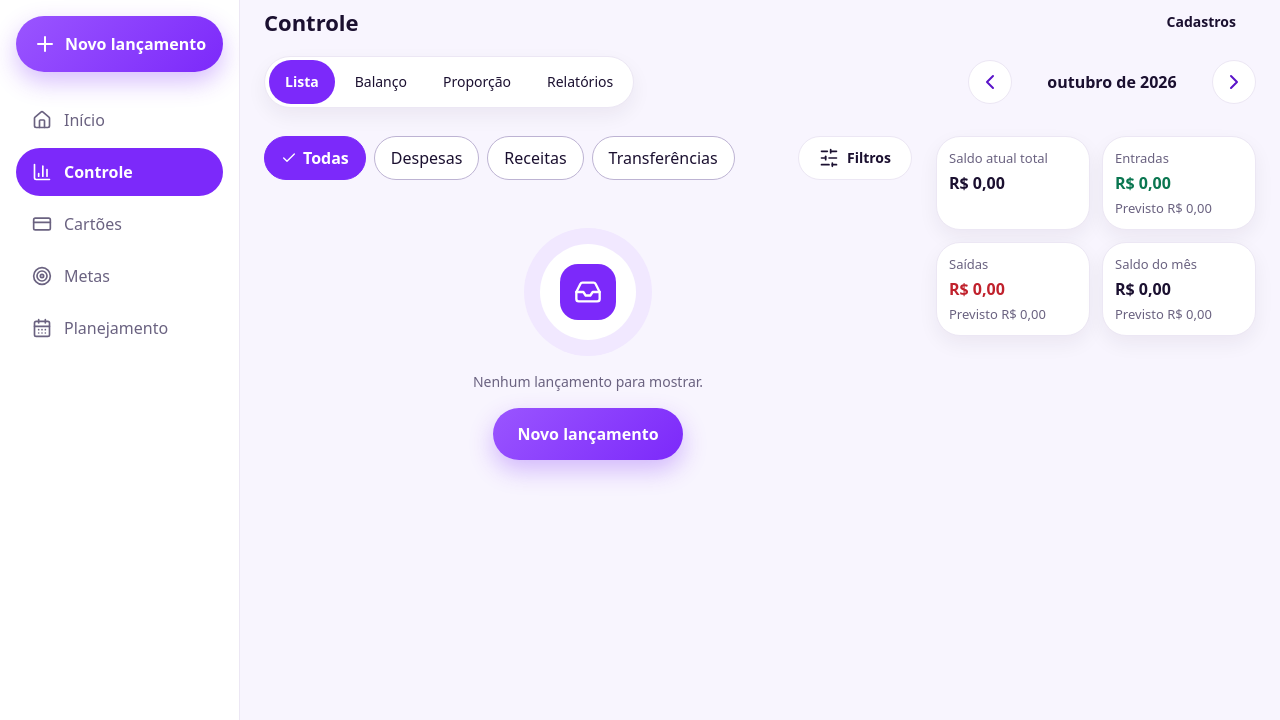
it: menu "+" (CA-0.02) › a opção "Despesa" fecha o menu e abre o formulário "Nova despesa"
Expected: the heading "Controle" is shown, [264,7,358,37]
Step 1. Click the 1st button "Novo lançamento" → (120, 44), box [16,16,223,72]
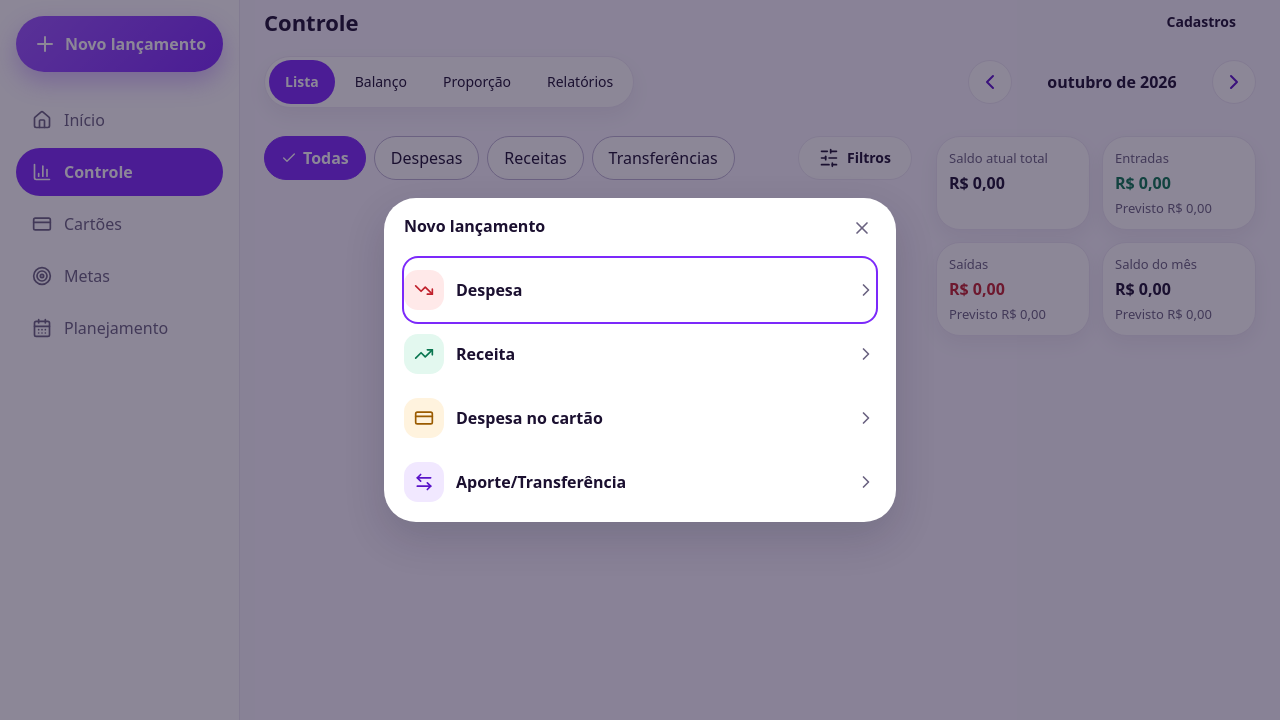
Step 2. Click the button "Despesa" → (424, 290), box [404,258,876,322]
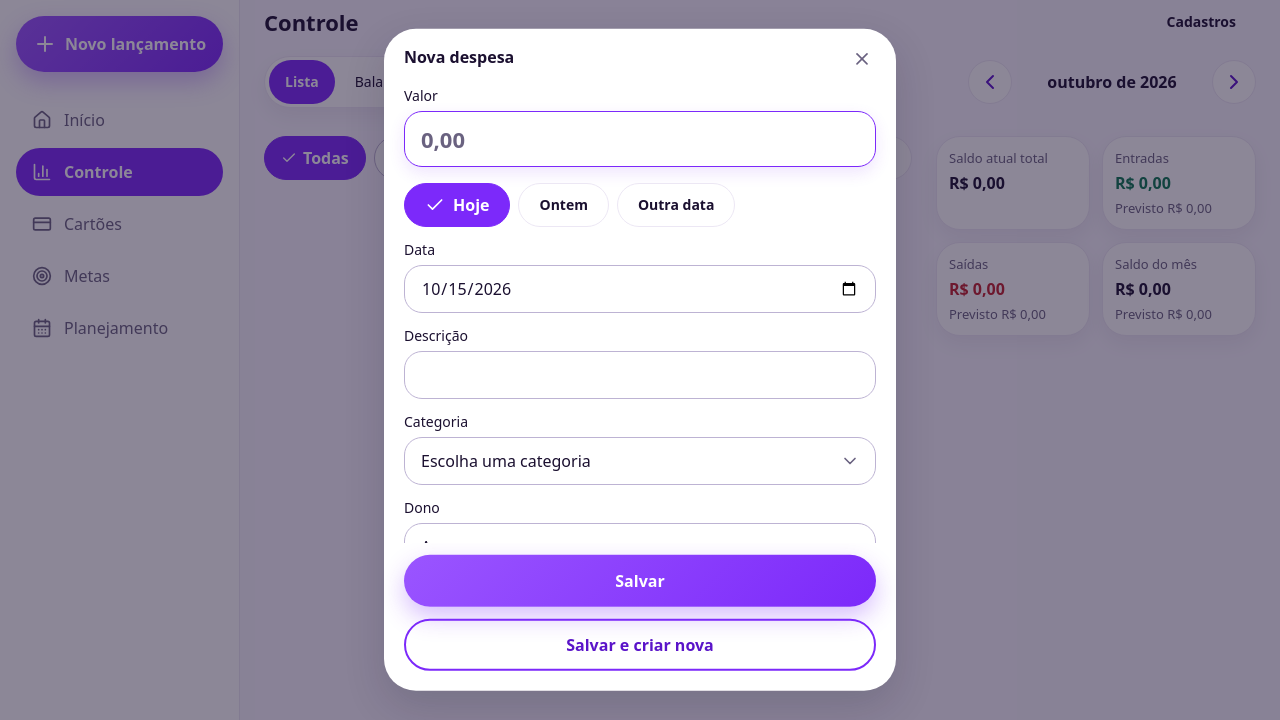
Expected: the dialog "Nova despesa" is shown, [384,29,896,691]
